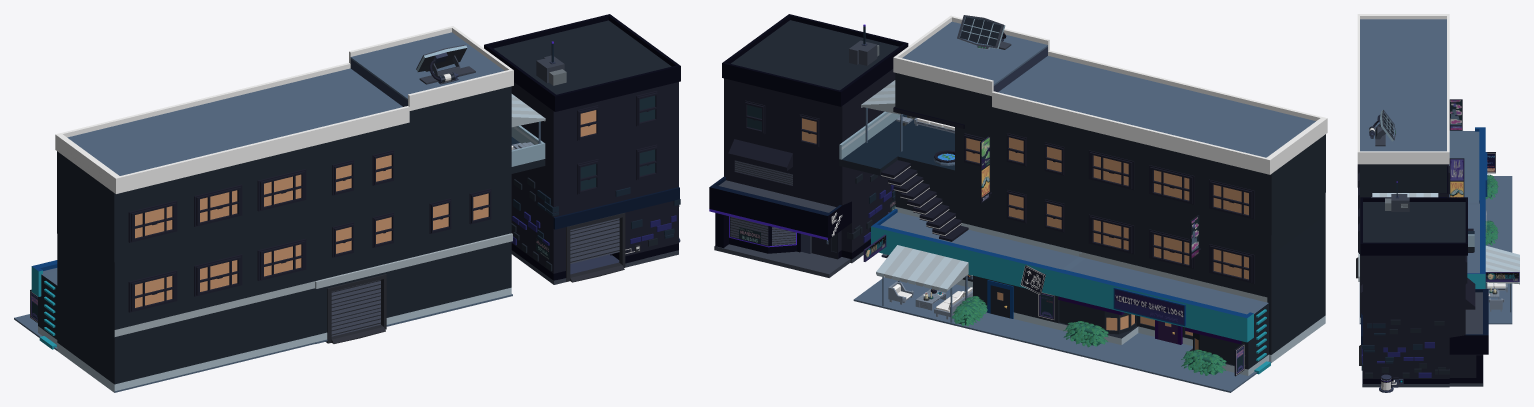
The model's file is Building_Moonbeans.fbx.
The picture shows the model from 3 angles, left to right: view 1: azimuth 30°, elevation 25°; view 2: azimuth 150°, elevation 25°; view 3: azimuth 270°, elevation 25°; orthographic projection. The views are drawn at different scales.
Visible parts, largest first — view 1: Cube.551, Cube.614, Cube.558, Cube.619, Solar Panel.004, Cube.1114; view 2: Cube.551, Cube.614, Cube.558, Cube.1120, Cube.561, Cube.1097, Cube.1124, Solar Panel.004, Cube.1114, Cylinder.037, Cylinder.038, Cylinder.263 (+3 smaller); view 3: Cube.614, Cube.551, Cube.558, Cube.561, Solar Panel.004, Cube.1119, Cube.512, Cube.589, Cylinder.033, Cylinder.037, Cube.1114, Cylinder.038 (+3 smaller).
Part boxes in pixels (x1,y1,x2,y2): Cube.551: (14, 62, 409, 392); Cube.614: (484, 14, 680, 284); Cube.558: (349, 26, 545, 321); Cube.619: (570, 218, 619, 263); Solar Panel.004: (416, 44, 475, 84); Cube.1114: (511, 94, 545, 143); Cube.551: (952, 50, 1327, 392); Cube.614: (709, 14, 908, 277); Cube.558: (839, 15, 1049, 324); Cube.1120: (1088, 150, 1254, 283); Cube.561: (876, 245, 968, 322); Cube.1097: (881, 160, 968, 241); Cube.1124: (1113, 287, 1185, 326); Solar Panel.004: (957, 15, 1011, 49); Cube.1114: (861, 80, 902, 151); Cylinder.037: (1063, 321, 1108, 347); Cylinder.038: (1181, 349, 1226, 375); Cylinder.263: (952, 296, 987, 326); Cube.614: (1359, 181, 1488, 387); Cube.551: (1356, 14, 1512, 284); Cube.558: (1357, 114, 1512, 324); Cube.561: (1485, 245, 1519, 312); Solar Panel.004: (1369, 110, 1395, 146); Cube.1119: (1449, 158, 1464, 197); Cube.512: (1449, 99, 1462, 130); Cube.589: (1485, 272, 1519, 281); Cylinder.033: (1379, 374, 1403, 392); Cylinder.037: (1485, 220, 1498, 245); Cube.1114: (1372, 193, 1438, 197); Cylinder.038: (1485, 174, 1498, 199).
Bounding box in the file's own units: 2755 × 1136 × 884.
